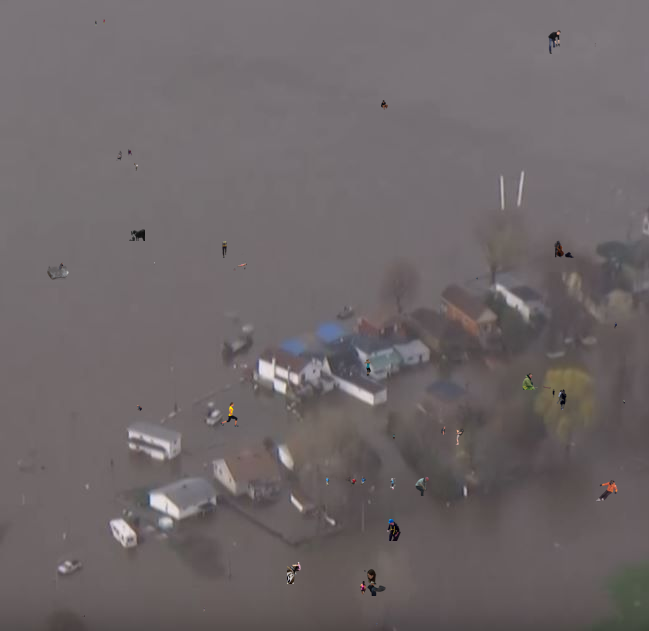Human: (367, 569, 386, 596), (42, 261, 69, 280), (595, 480, 618, 502), (222, 241, 246, 262), (522, 373, 551, 390), (220, 402, 239, 427), (326, 476, 369, 487), (441, 426, 464, 445), (554, 240, 574, 258), (552, 389, 567, 410), (548, 30, 561, 54), (287, 562, 301, 584), (387, 519, 401, 541), (116, 149, 138, 162), (415, 476, 429, 496), (129, 229, 145, 241), (233, 263, 247, 273), (364, 359, 371, 376), (360, 581, 366, 595), (390, 478, 396, 490), (95, 19, 105, 26), (381, 100, 388, 110), (134, 163, 138, 171), (137, 405, 142, 411), (614, 322, 617, 330), (393, 434, 395, 440), (203, 607, 205, 612), (594, 43, 596, 47), (623, 400, 625, 404), (82, 615, 85, 617), (376, 623, 378, 626), (154, 262, 156, 265), (363, 570, 366, 572), (476, 277, 478, 280)
